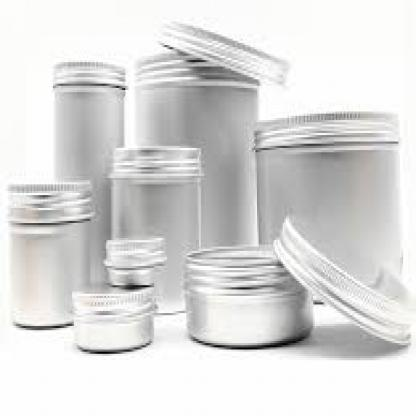METAL: (133, 56, 257, 279), (253, 112, 398, 302), (273, 210, 408, 348), (51, 60, 126, 287), (108, 145, 200, 306), (185, 247, 313, 345), (7, 184, 93, 326), (154, 17, 286, 86), (69, 290, 156, 348), (100, 236, 162, 283)
